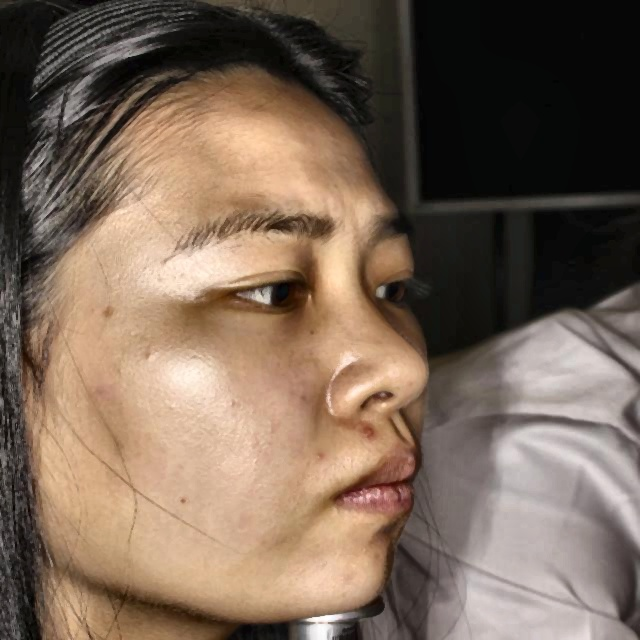comedone: (358, 421, 380, 442)
